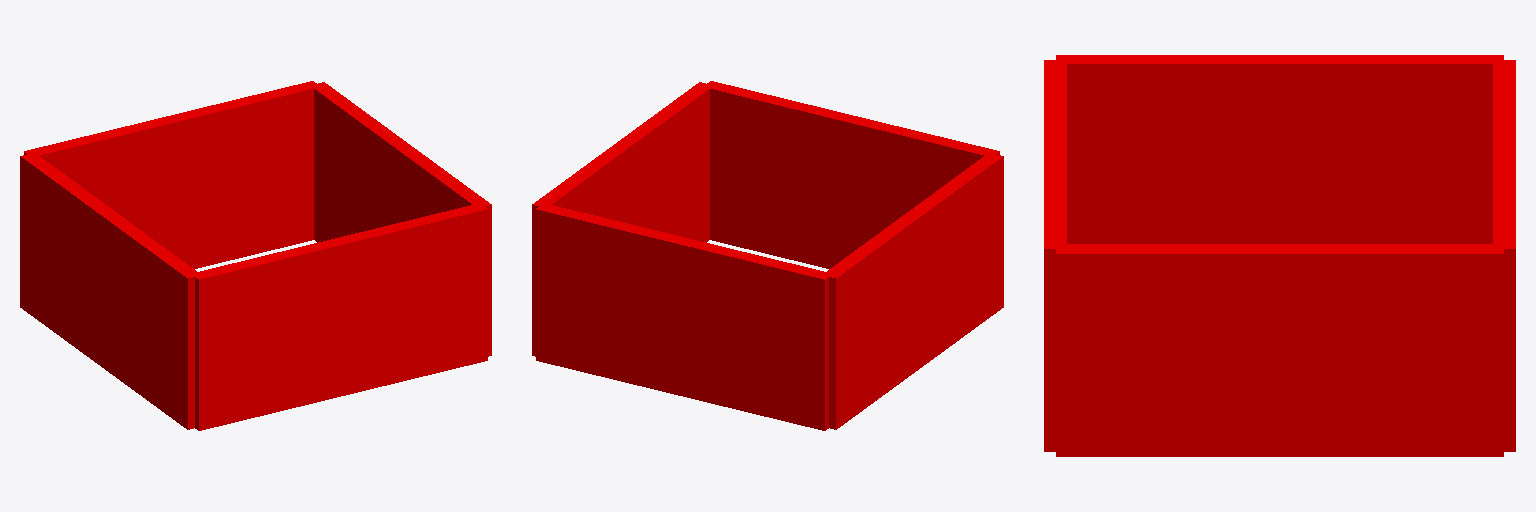
URDF robot description (cup):
<?xml version="1.0"?>
<robot name="cup">

  <link name="base_link">
    <inertial>
      <mass value="0.01"/>
    	<inertia ixx="0.000001" ixy="0.0" ixz="0.0" iyy="0.000001" iyz="0.0" izz="0.000001"/>
  	</inertial>
    <visual>
      <geometry>
        <box size="0.01 0.01 0.01"/>
      </geometry>
    </visual>
  </link>

  <link name="left_wall">
    <collision>
      <geometry>
        <box size="0.01 0.2 0.1"/>
      </geometry>
    </collision>
    <inertial>
      <mass value="0.01"/>
    	<inertia ixx="0.000001" ixy="0.0" ixz="0.0" iyy="0.000001" iyz="0.0" izz="0.000001"/>
  	</inertial>
    <visual>
      <geometry>
        <box size="0.01 0.2 0.1"/>
      </geometry>
      <material name="red">
        <color rgba="1.0 0.0 0.0 1.0"/>
      </material>
    </visual>
  </link>
  <joint name="base_to_left" type="fixed">
    <parent link="base_link"/>
    <child link="left_wall"/>
    <origin xyz="0.1 0.0 0.05"/>
  </joint>

  <link name="right_wall">
    <collision>
      <geometry>
        <box size="0.01 0.2 0.1"/>
      </geometry>
    </collision>
    <inertial>
      <mass value="0.01"/>
    	<inertia ixx="0.000001" ixy="0.0" ixz="0.0" iyy="0.000001" iyz="0.0" izz="0.000001"/>
  	</inertial>
    <visual>
      <geometry>
        <box size="0.01 0.2 0.1"/>
      </geometry>
      <material name="red">
        <color rgba="1.0 0.0 0.0 1.0"/>
      </material>
    </visual>
  </link>
  <joint name="base_to_right" type="fixed">
    <parent link="base_link"/>
    <child link="right_wall"/>
    <origin xyz="-0.1 0.0 0.05"/>
  </joint>

  <link name="front_wall">
    <collision>
      <geometry>
        <box size="0.2 0.01 0.1"/>
      </geometry>
    </collision>
    <inertial>
      <mass value="0.01"/>
    	<inertia ixx="0.000001" ixy="0.0" ixz="0.0" iyy="0.000001" iyz="0.0" izz="0.000001"/>
  	</inertial>
    <visual>
      <geometry>
        <box size="0.2 0.01 0.1"/>
      </geometry>
      <material name="red">
        <color rgba="1.0 0.0 0.0 1.0"/>
      </material>
    </visual>
  </link>
  <joint name="base_to_front" type="fixed">
    <parent link="base_link"/>
    <child link="front_wall"/>
    <origin xyz="0.0 -0.1 0.05"/>
  </joint>

  <link name="back_wall">
    <collision>
      <geometry>
        <box size="0.2 0.01 0.1"/>
      </geometry>
    </collision>
    <inertial>
      <mass value="0.01"/>
    	<inertia ixx="0.000001" ixy="0.0" ixz="0.0" iyy="0.000001" iyz="0.0" izz="0.000001"/>
  	</inertial>
    <visual>
      <geometry>
        <box size="0.2 0.01 0.1"/>
      </geometry>
      <material name="red">
        <color rgba="1.0 0.0 0.0 1.0"/>
      </material>
    </visual>
  </link>
  <joint name="base_to_back" type="fixed">
    <parent link="base_link"/>
    <child link="back_wall"/>
    <origin xyz="0.0 0.1 0.05"/>
  </joint>
</robot>

--- Facts derived from the render (not from the file) ---
The picture shows the robot from 3 angles, left to right: view 1: azimuth 30°, elevation 25°; view 2: azimuth 150°, elevation 25°; view 3: azimuth 270°, elevation 25°; orthographic projection.
Robot: cup — 5 links, 4 joints (4 fixed); root link base_link; default pose: all joints at 0.
Visible links, largest first — view 1: front_wall, back_wall, right_wall, left_wall; view 2: back_wall, front_wall, right_wall, left_wall; view 3: left_wall, right_wall, back_wall, front_wall.
Boxes of the visible links, <box> form: front_wall: <box>195,203,487,430</box>; back_wall: <box>24,81,320,268</box>; right_wall: <box>20,153,200,429</box>; left_wall: <box>314,82,491,356</box>; back_wall: <box>536,203,832,430</box>; front_wall: <box>703,81,999,268</box>; right_wall: <box>823,153,1003,429</box>; left_wall: <box>532,82,709,356</box>; left_wall: <box>1056,244,1503,456</box>; right_wall: <box>1056,55,1503,243</box>; back_wall: <box>1493,60,1515,451</box>; front_wall: <box>1044,60,1066,451</box>.
Size in the robot's own frame: 0.21 by 0.21 by 0.105 metres.
Geometry: primitives only (box / cylinder / sphere), no mesh files.